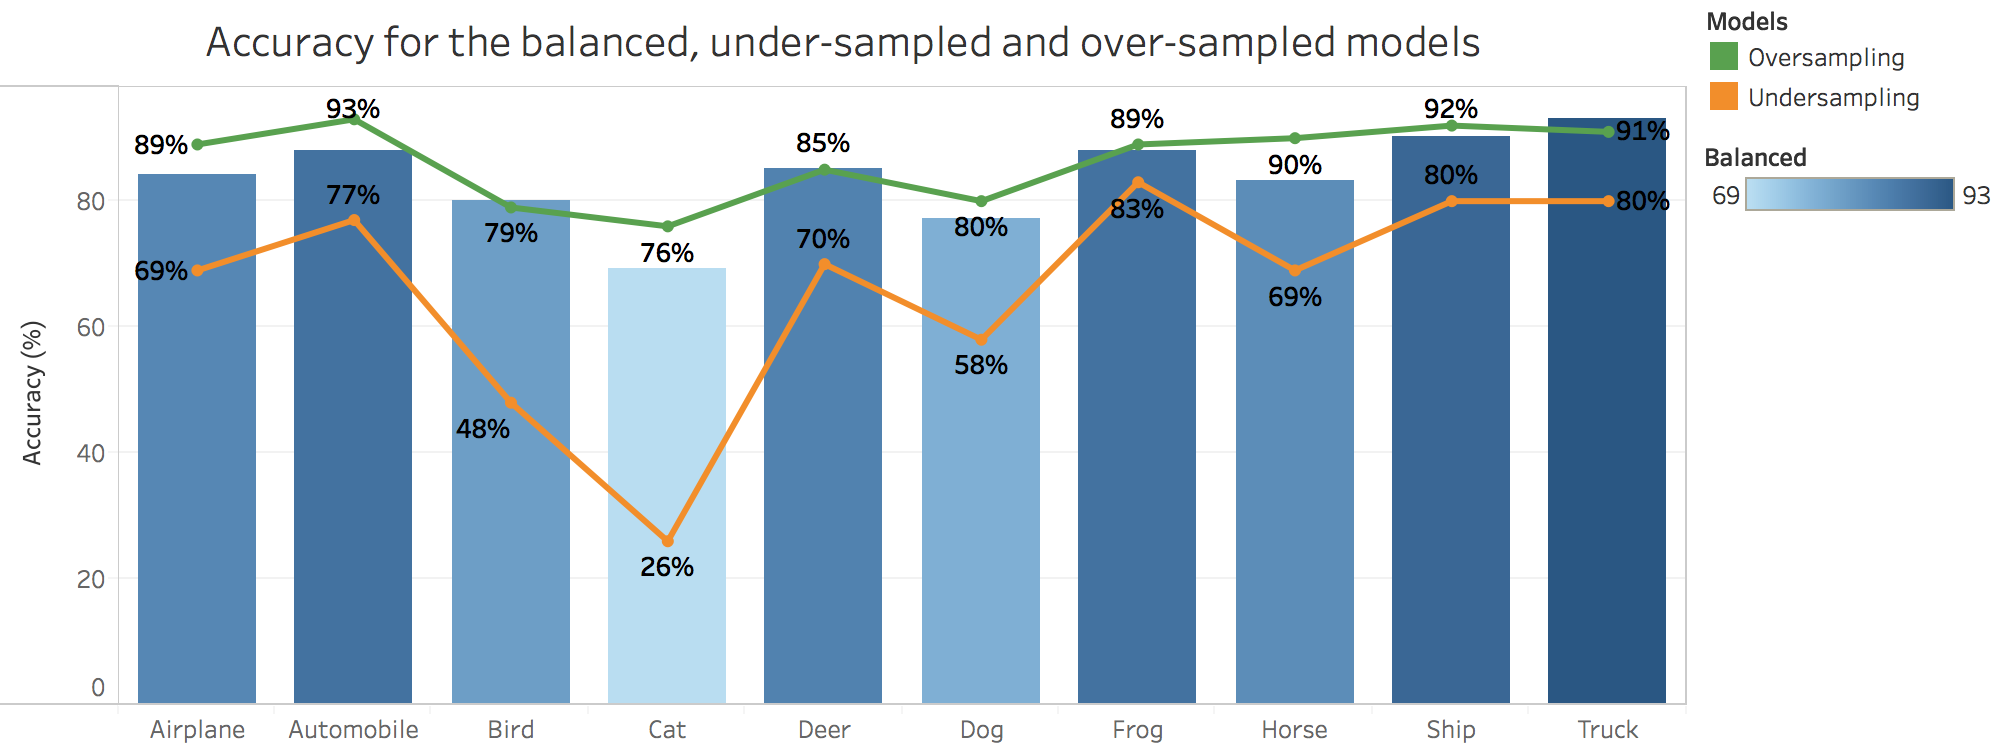

Layout of this report page (visuals, bound fields, positions):
{"tool":"tableau","page":{"name":"Dashboard 1","canvas":[1016,550],"ordinal":0},"visuals":[{"type":"worksheet","title":"Sheet 1","mark":"Line","rows":["Balanced - Non Perturbed"],"cols":["F1"],"box":[0,0,856,316]},{"type":"legend","title":"Sheet 1","param":"[federated.0b02kaf1aqzqf712773081u4tukv].[:Measure Names]","box":[856,0,160,70]},{"type":"legend","title":"Sheet 1","param":"[federated.0b02kaf1aqzqf712773081u4tukv].[sum:Balanced - Non Perturbed:qk]","box":[856,70,160,65]},{"type":"worksheet","title":"Sheet 3","mark":"Automatic","rows":["F1"],"box":[0,316,856,234]}]}

Visuals, with their boxes on the page's 1016x550 design canvas (x1, y1, x2, y2). These are canvas units, not pixel positions in the 2000x748 screenshot, which may show the page scaled, cropped or inside an application window:
"Sheet 1" worksheet (Line marks): crop(0, 0, 856, 316)
"Sheet 1" legend: crop(856, 0, 1016, 70)
"Sheet 1" legend: crop(856, 70, 1016, 135)
"Sheet 3" worksheet: crop(0, 316, 856, 550)
